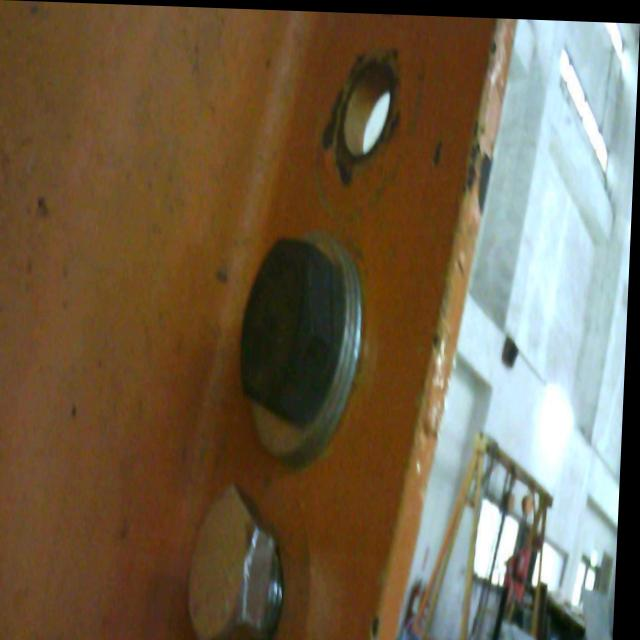Loose bolt: (191, 477, 299, 640)
Missing bolt: (341, 53, 398, 155)
Regular bolt: (182, 459, 315, 640)
Rusty bolt: (240, 231, 368, 456)
